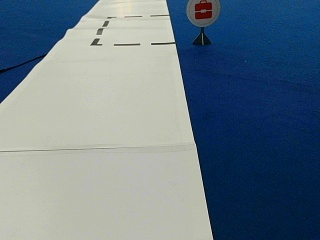company: (186, 0, 220, 26)
